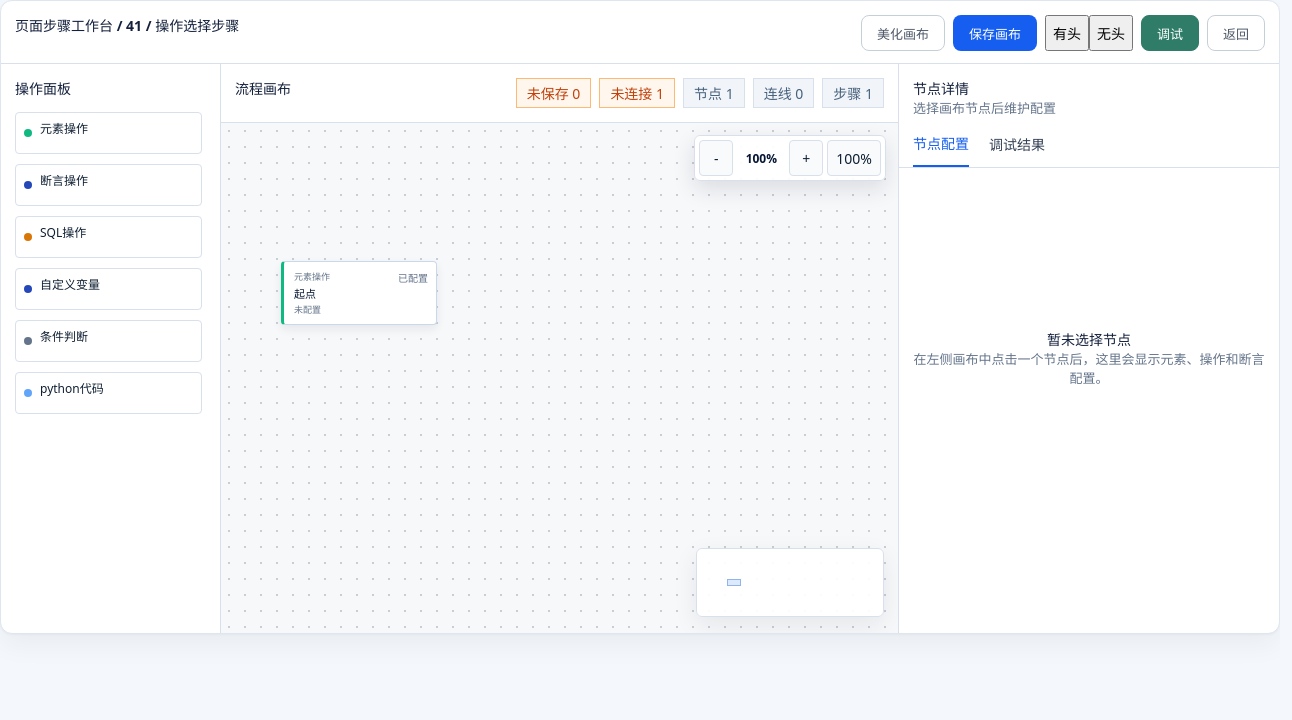
it: 节点操作选择器 › Enter 确认选中高亮项，ESC 关闭面板
Press the mouse on the button "元素操作 起点 未配置 已配置" at [359, 293], box x1=281 y1=261 x2=437 y2=325
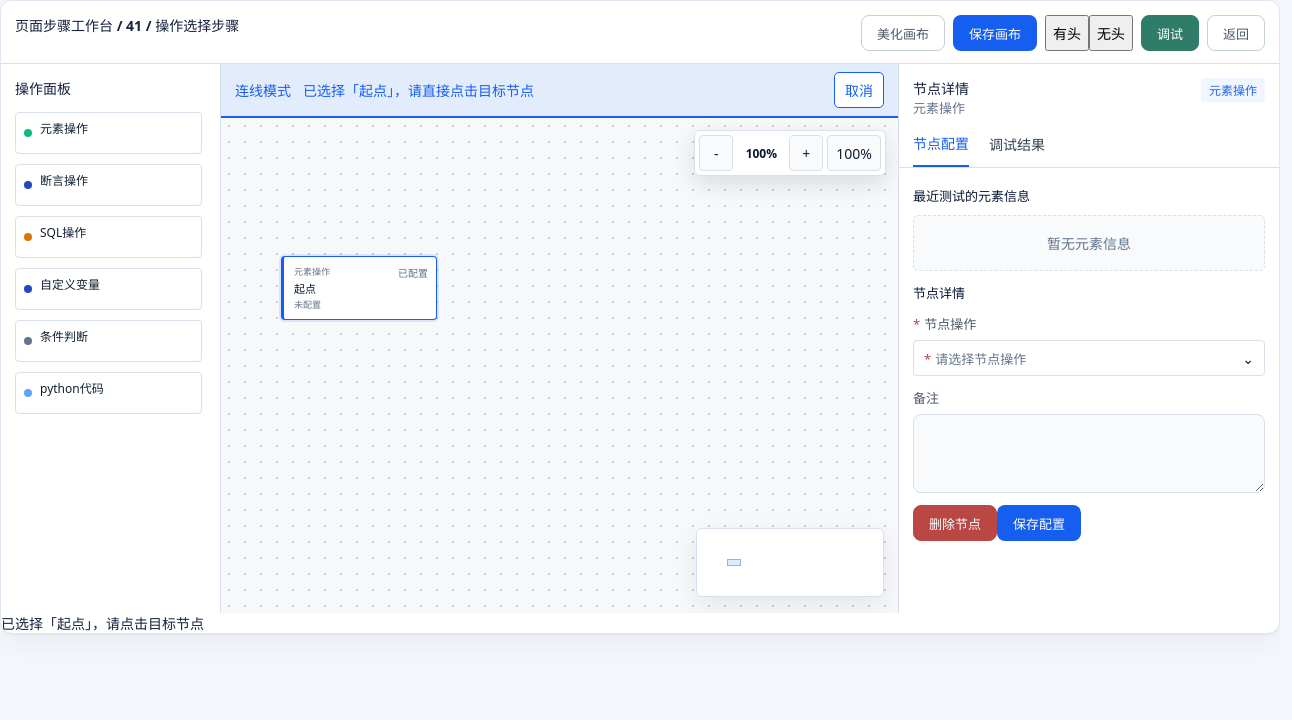
Click the button "请选择节点操作 ⌄". click: [981, 358]
box: x1=913 y1=340 x2=1265 y2=376
(page scrolled)
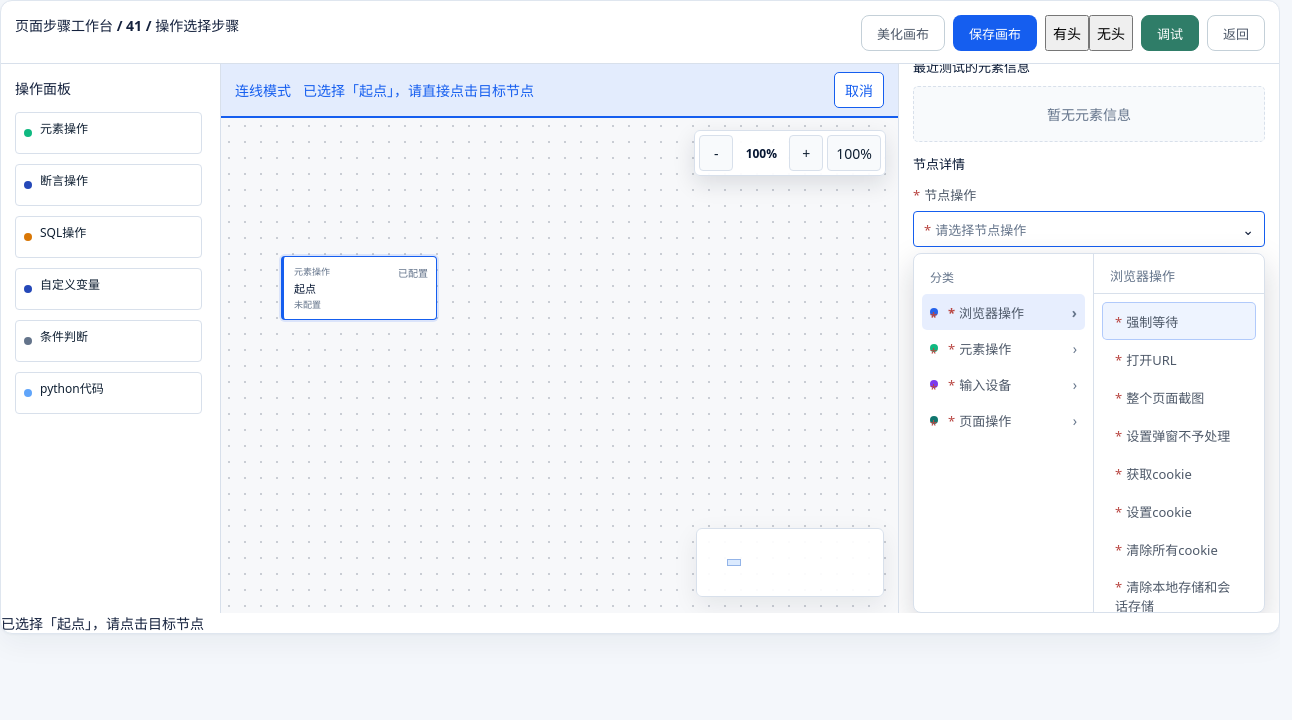
Press Enter in the list named "操作列表", box x1=1094 y1=254 x2=1264 y2=612
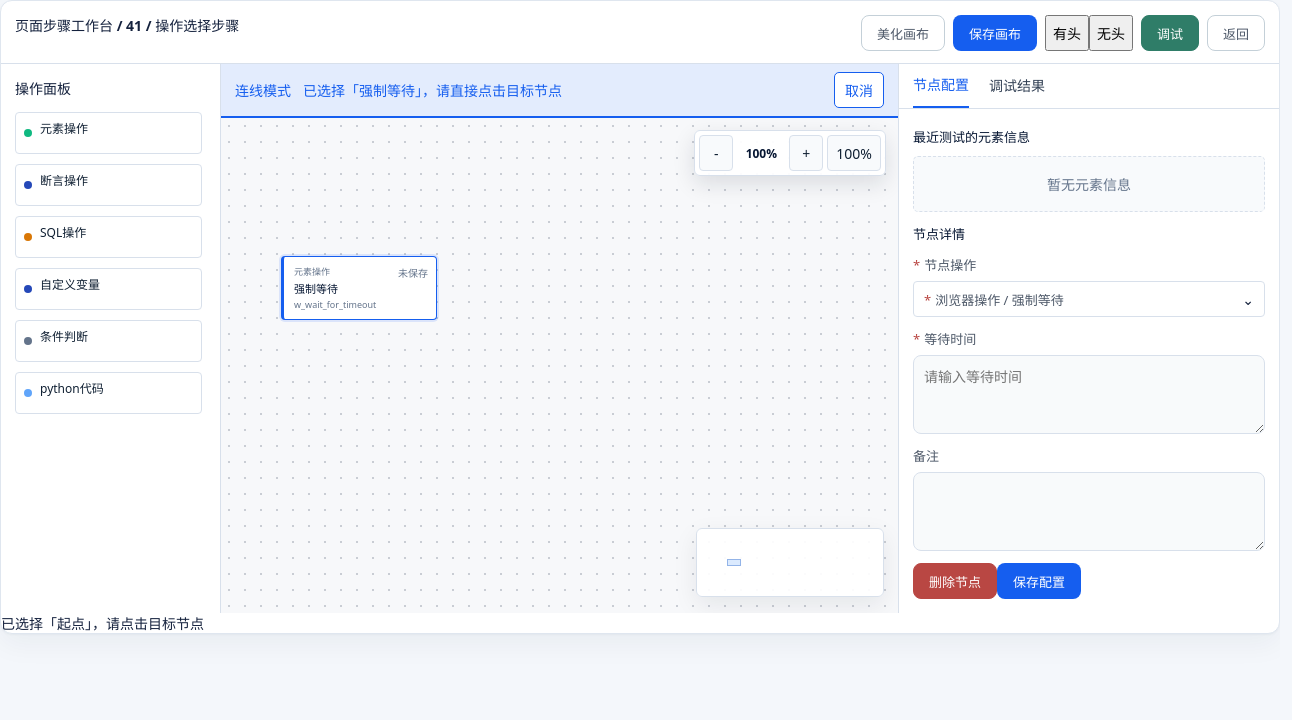
expect the button "浏览器操作 / 强制等待 ⌄" is shown: met
Click the button "浏览器操作 / 强制等待 ⌄". click: [999, 300]
box: x1=913 y1=281 x2=1265 y2=317
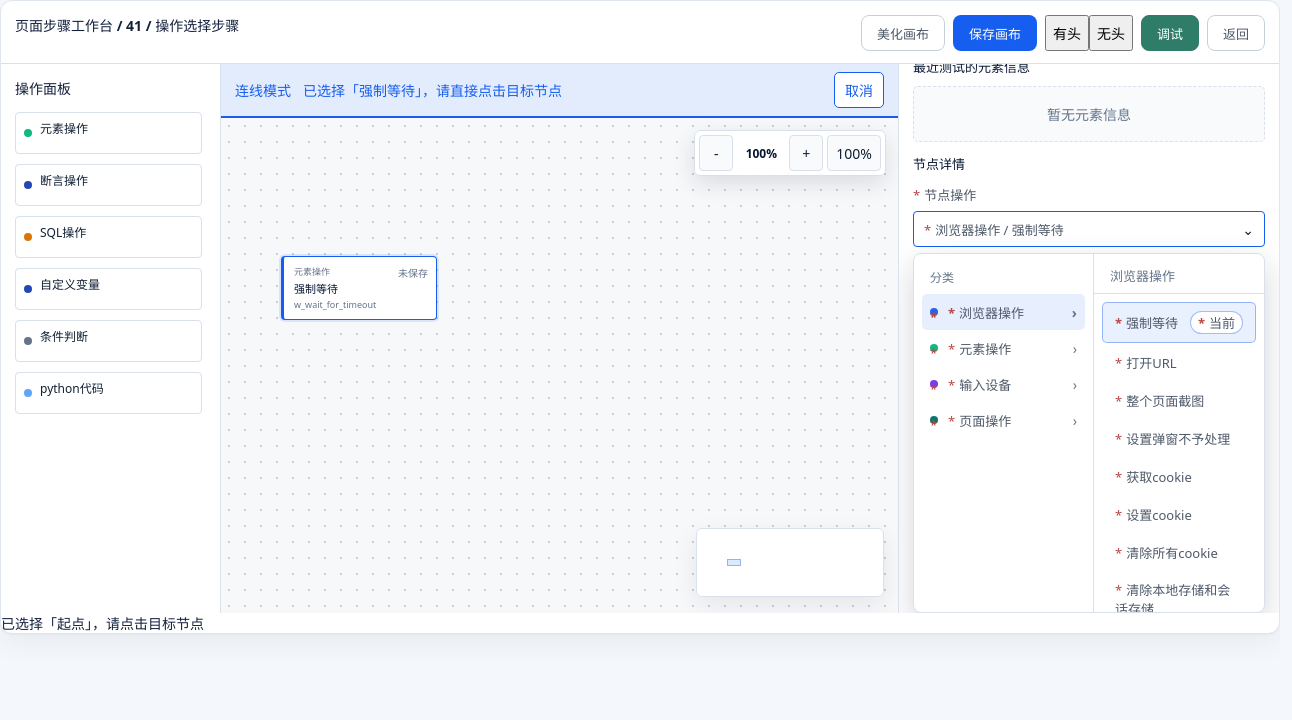
Press Escape in the element with class "operation-dropdown-panel", box x1=913 y1=253 x2=1265 y2=613
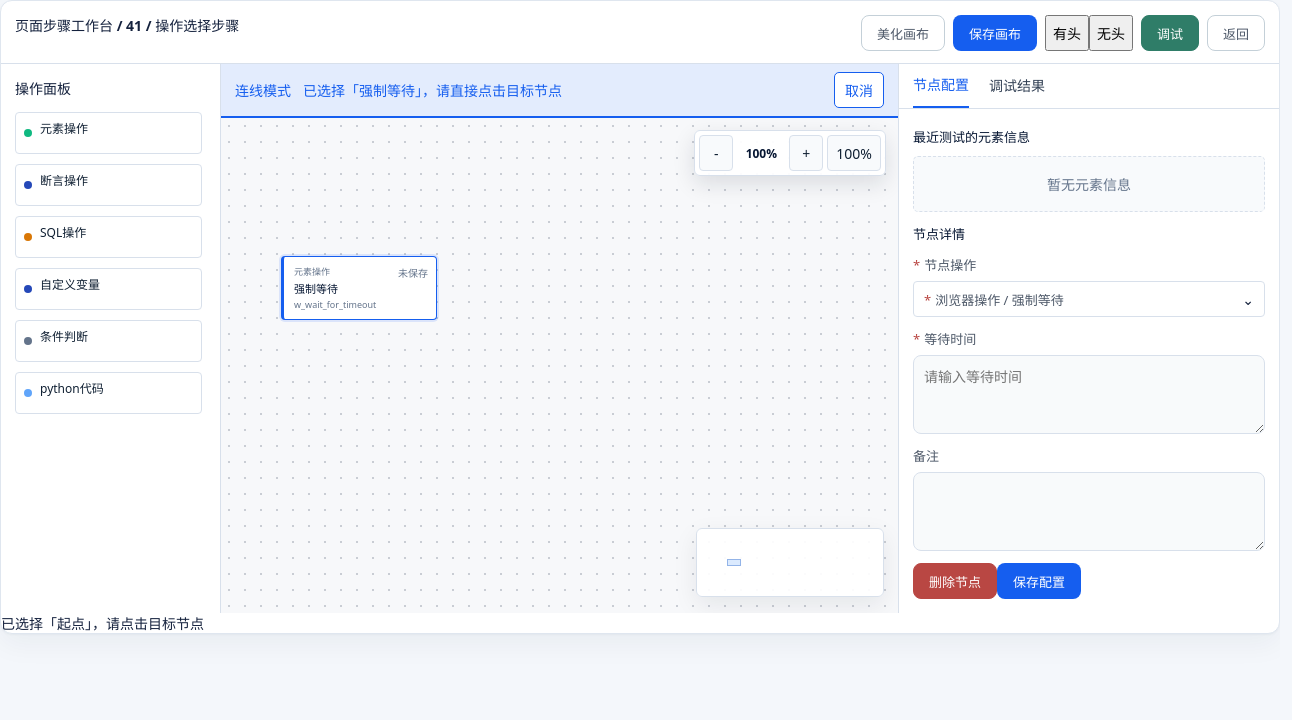
expect the element with class "operation-dropdown-panel" is gone: met
